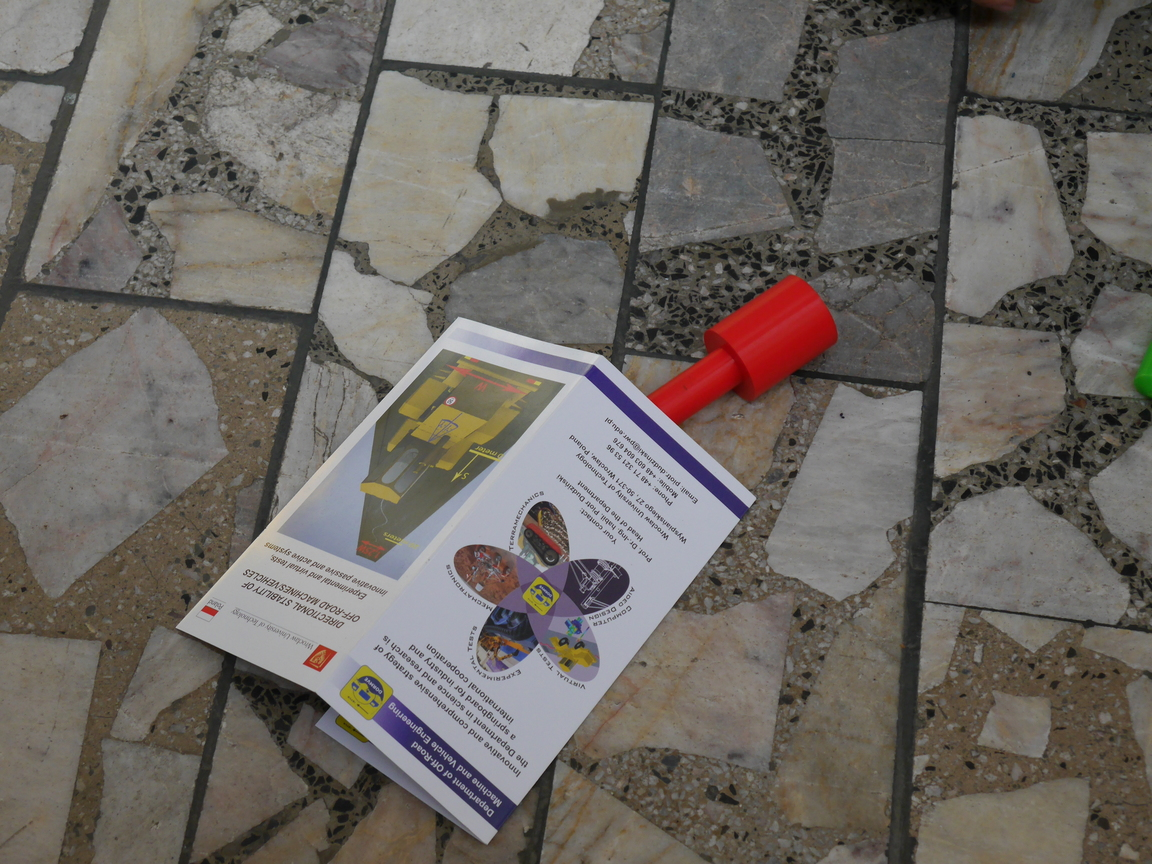cargo_g: (648, 274, 837, 430)
